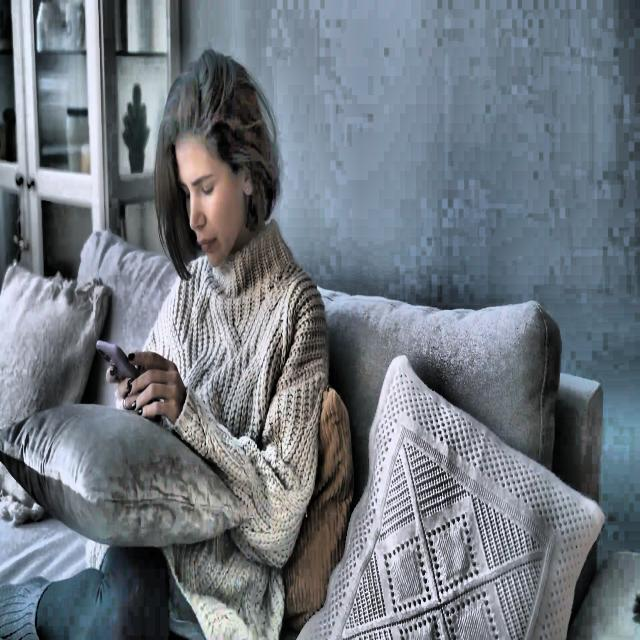Phone: (94, 336, 140, 384)
